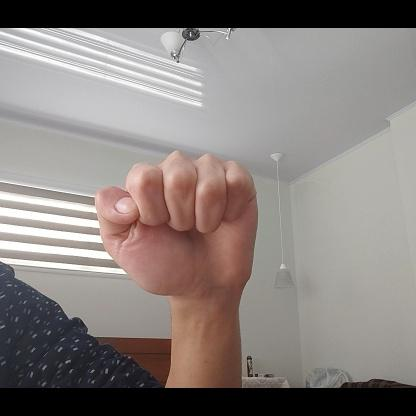A: (90, 147, 260, 295)
